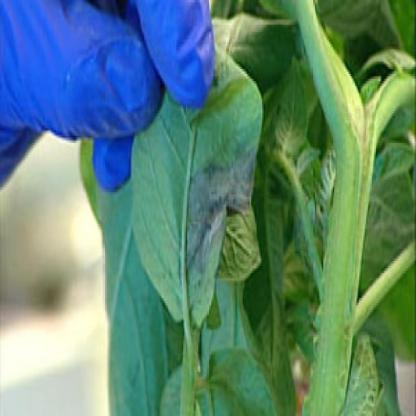Potato leaf late blight: (126, 34, 266, 330)
